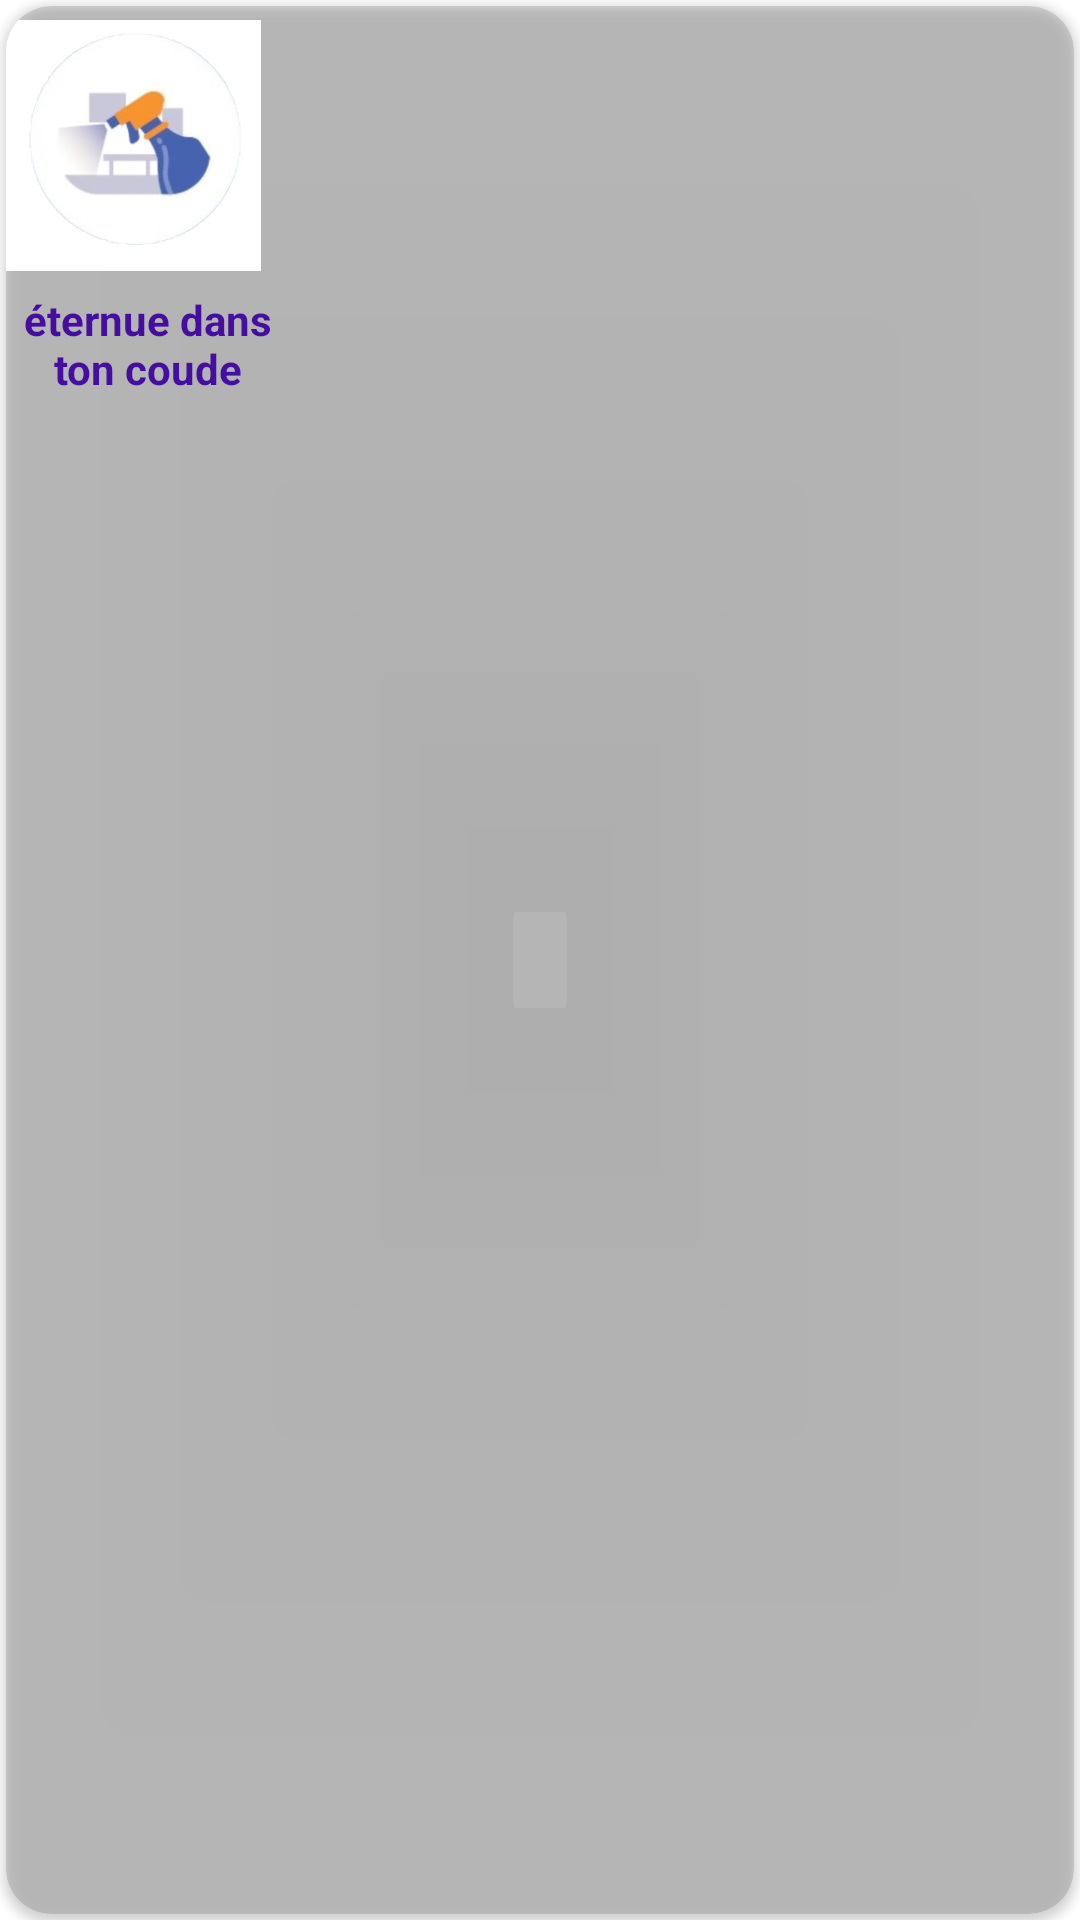

Icon click points for this 1080x1920 phone screenshot, format (x,y):
sinitize: (133,145)
